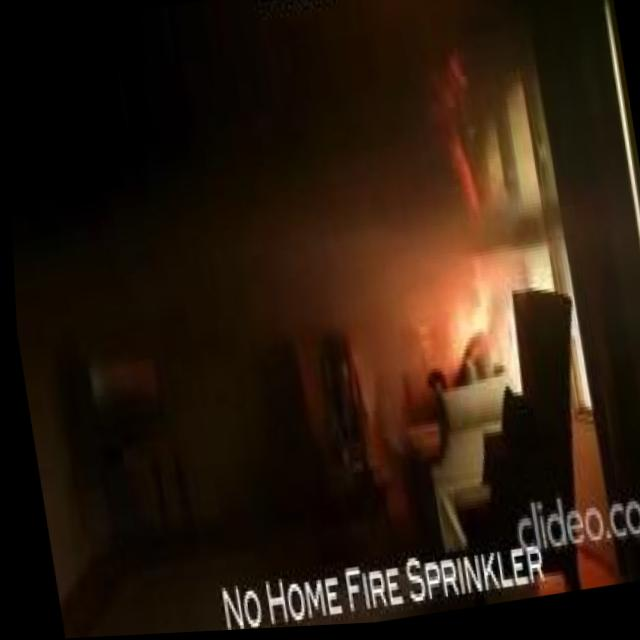fire: (431, 271, 494, 371)
